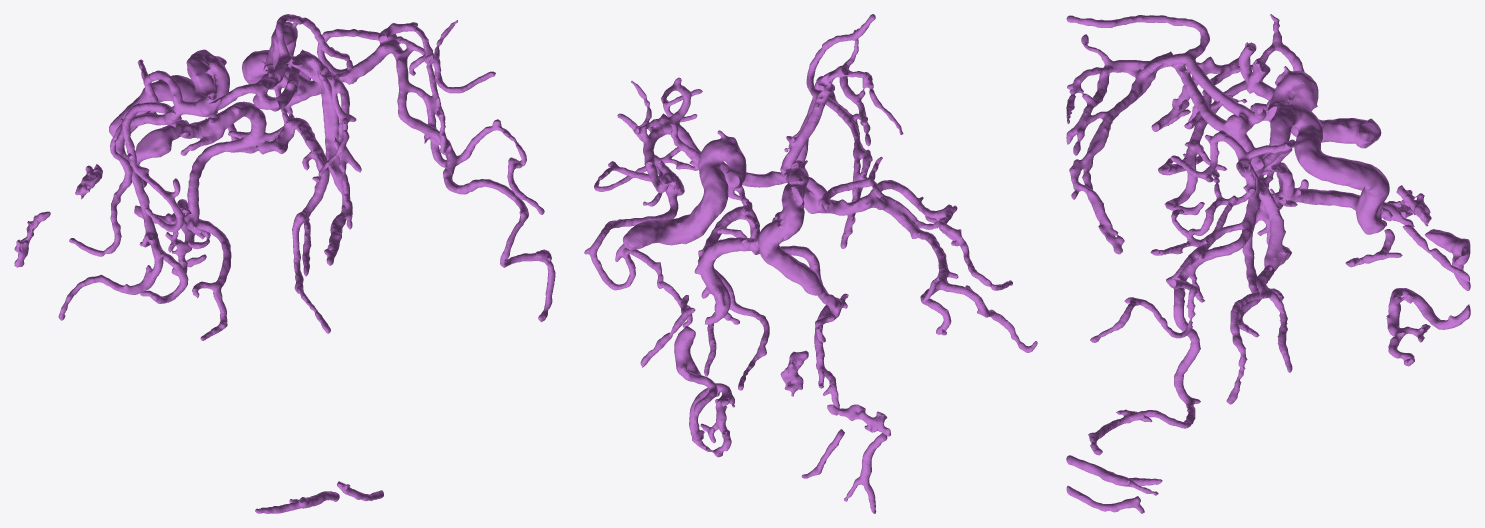
File: vessel_tree.glb
3 renders of one model, left to right at view 1: azimuth 30°, elevation 25°; view 2: azimuth 150°, elevation 25°; view 3: azimuth 270°, elevation 25°, orthographic. The views are drawn at different scales.
Parts seen in each view (by area): view 1: world; view 2: world; view 3: world.
Boxes of the visible parts, bbox=[...] form: world: bbox=[14, 14, 555, 513]; world: bbox=[584, 14, 1037, 513]; world: bbox=[1066, 14, 1470, 513].
Bounding box in the file's own units: 137 × 135 × 100.
